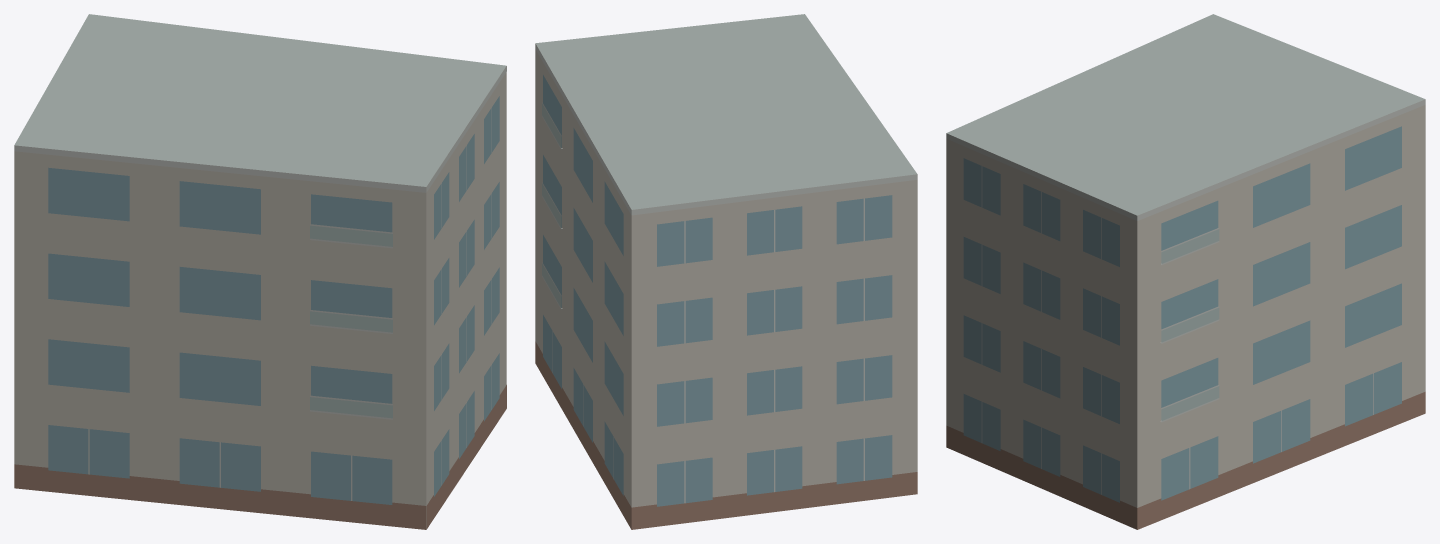
The model's file is survey-upis-32846218.glb.
The picture shows the model from 3 angles, left to right: view 1: azimuth 30°, elevation 25°; view 2: azimuth 150°, elevation 25°; view 3: azimuth 270°, elevation 25°; orthographic projection. The views are drawn at different scales.
Visible parts, largest first — view 1: survey-upis-32846218.tmp; view 2: survey-upis-32846218.tmp; view 3: survey-upis-32846218.tmp.
Part boxes in pixels (bbox=[...]): survey-upis-32846218.tmp: bbox=[14, 14, 506, 529]; survey-upis-32846218.tmp: bbox=[535, 14, 917, 529]; survey-upis-32846218.tmp: bbox=[946, 14, 1425, 529].
Bounding box in the file's own units: 19.42 × 14.1 × 19.51.
